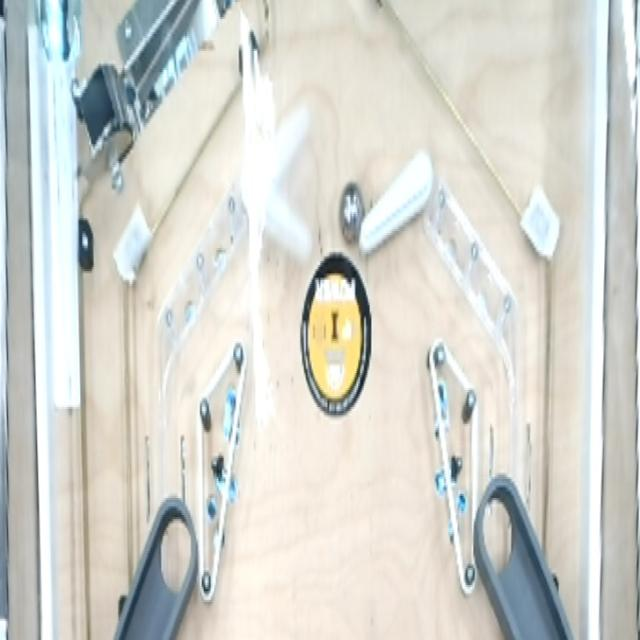ball: (336, 178, 364, 238)
flipper-left: (358, 138, 440, 270)
flipper-right: (233, 98, 316, 274)
